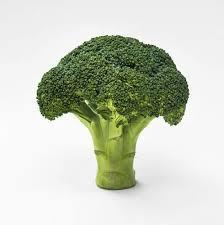broccoli: (35, 33, 189, 190)
